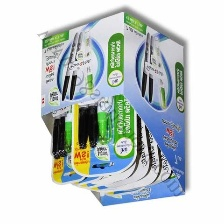book: (35, 8, 187, 207)
correction_fluid: (94, 36, 115, 146), (61, 49, 76, 153)
